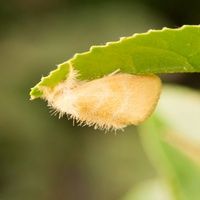insect: (30, 62, 161, 130)
